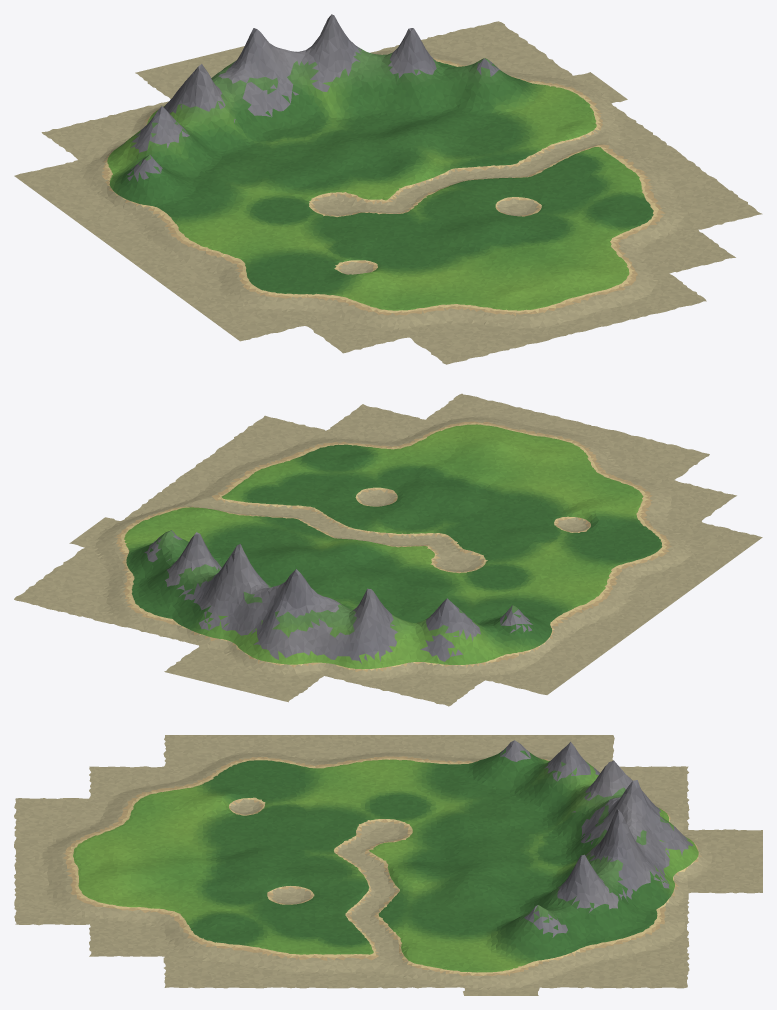
Rendered from island.glb.
3 views of the same model, one above another, from view 1: azimuth 30°, elevation 25°; view 2: azimuth 150°, elevation 25°; view 3: azimuth 270°, elevation 25° (orthographic). The views are drawn at different scales.
Visible parts, largest first — view 1: Chunk_02_04-col, Chunk_02_05-col, Chunk_02_03-col, Chunk_02_02-col, Chunk_03_06-col, Chunk_03_01-col, Chunk_04_04-col, Chunk_07_01-col, Chunk_08_02-col, Chunk_03_00-col, Chunk_09_03-col, Chunk_09_04-col (+54 smaller); view 2: Chunk_01_03-col, Chunk_01_02-col, Chunk_01_04-col, Chunk_02_01-col, Chunk_01_05-col, Chunk_00_03-col, Chunk_03_00-col, Chunk_01_06-col, Chunk_06_00-col, Chunk_04_00-col, Chunk_01_01-col, Chunk_02_00-col (+54 smaller); view 3: Chunk_02_06-col, Chunk_01_05-col, Chunk_01_04-col, Chunk_03_07-col, Chunk_02_02-col, Chunk_01_06-col, Chunk_02_07-col, Chunk_02_03-col, Chunk_08_05-col, Chunk_06_07-col, Chunk_04_07-col, Chunk_05_07-col (+56 smaller).
Boxes of the visible parts, x1=… form: Chunk_02_04-col: x1=276, y1=21, x2=378, y2=133; Chunk_02_05-col: x1=340, y1=28, x2=442, y2=118; Chunk_02_03-col: x1=213, y1=63, x2=311, y2=149; Chunk_02_02-col: x1=167, y1=64, x2=248, y2=156; Chunk_03_06-col: x1=443, y1=58, x2=547, y2=129; Chunk_03_01-col: x1=118, y1=153, x2=218, y2=210; Chunk_04_04-col: x1=350, y1=136, x2=451, y2=189; Chunk_07_01-col: x1=268, y1=275, x2=370, y2=325; Chunk_08_02-col: x1=371, y1=287, x2=473, y2=337; Chunk_03_00-col: x1=52, y1=177, x2=153, y2=230; Chunk_09_03-col: x1=474, y1=299, x2=575, y2=348; Chunk_09_04-col: x1=539, y1=283, x2=641, y2=332; Chunk_01_03-col: x1=262, y1=569, x2=359, y2=675; Chunk_01_02-col: x1=325, y1=589, x2=422, y2=690; Chunk_01_04-col: x1=199, y1=544, x2=287, y2=652; Chunk_02_01-col: x1=423, y1=598, x2=520, y2=680; Chunk_01_05-col: x1=138, y1=555, x2=230, y2=645; Chunk_00_03-col: x1=226, y1=649, x2=323, y2=702; Chunk_03_00-col: x1=521, y1=623, x2=618, y2=668; Chunk_01_06-col: x1=76, y1=582, x2=172, y2=629; Chunk_06_00-col: x1=628, y1=544, x2=726, y2=589; Chunk_04_00-col: x1=558, y1=596, x2=654, y2=642; Chunk_01_01-col: x1=388, y1=655, x2=484, y2=706; Chunk_02_00-col: x1=486, y1=645, x2=582, y2=694; Chunk_02_06-col: x1=538, y1=873, x2=614, y2=954; Chunk_01_05-col: x1=612, y1=823, x2=689, y2=924; Chunk_01_04-col: x1=613, y1=794, x2=688, y2=893; Chunk_03_07-col: x1=462, y1=939, x2=539, y2=988; Chunk_02_02-col: x1=537, y1=749, x2=614, y2=824; Chunk_01_06-col: x1=612, y1=901, x2=689, y2=956; Chunk_02_07-col: x1=537, y1=939, x2=614, y2=988; Chunk_02_03-col: x1=537, y1=781, x2=614, y2=855; Chunk_08_05-col: x1=89, y1=885, x2=165, y2=925; Chunk_06_07-col: x1=238, y1=950, x2=315, y2=988; Chunk_04_07-col: x1=388, y1=948, x2=464, y2=988; Chunk_05_07-col: x1=314, y1=950, x2=390, y2=988.
Size of what is drawn, in the model's own units: 264 by 38.52 by 321.
